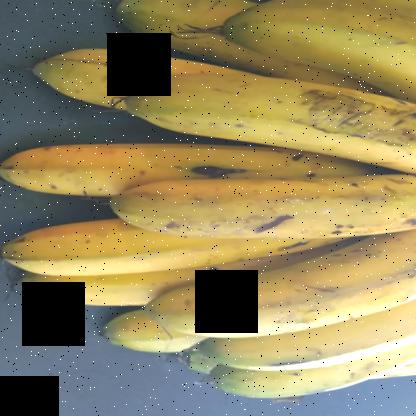ripe: (142, 220, 415, 338), (124, 80, 406, 176), (106, 159, 415, 243), (169, 287, 407, 391), (232, 0, 415, 115), (1, 134, 182, 199), (2, 218, 162, 279), (31, 34, 157, 106)
